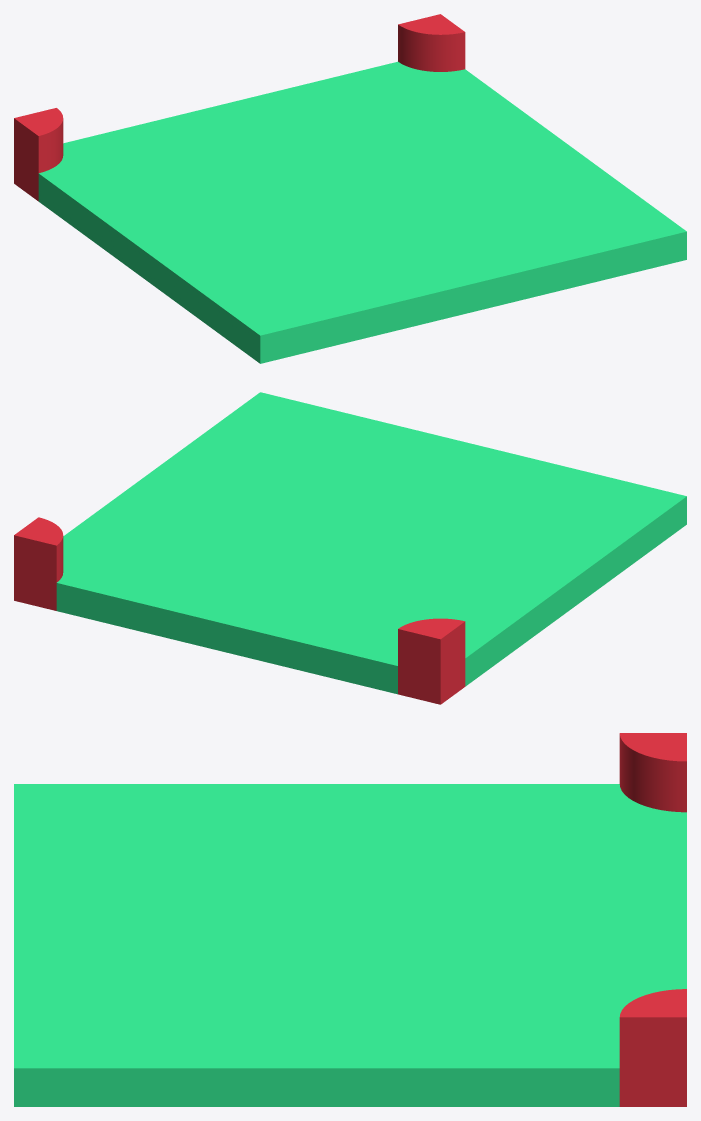
Rendered from wallsToOpen.fbx.
3 renders of one model, top to bottom at view 1: azimuth 30°, elevation 25°; view 2: azimuth 150°, elevation 25°; view 3: azimuth 270°, elevation 25°, orthographic. The views are drawn at different scales.
Visible parts, largest first — view 1: wallsToOpen; view 2: wallsToOpen; view 3: wallsToOpen.
Part boxes in pixels (x1,y1,x2,y2): wallsToOpen: (14,14,686,363); wallsToOpen: (14,392,686,704); wallsToOpen: (14,733,686,1106).
Bounding box in the file's own units: 10 × 1.47 × 10.
